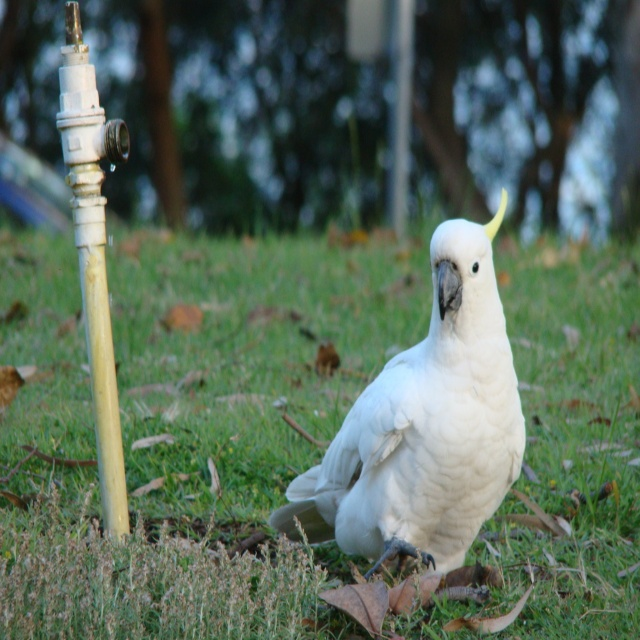Parrot: (268, 187, 526, 581)
